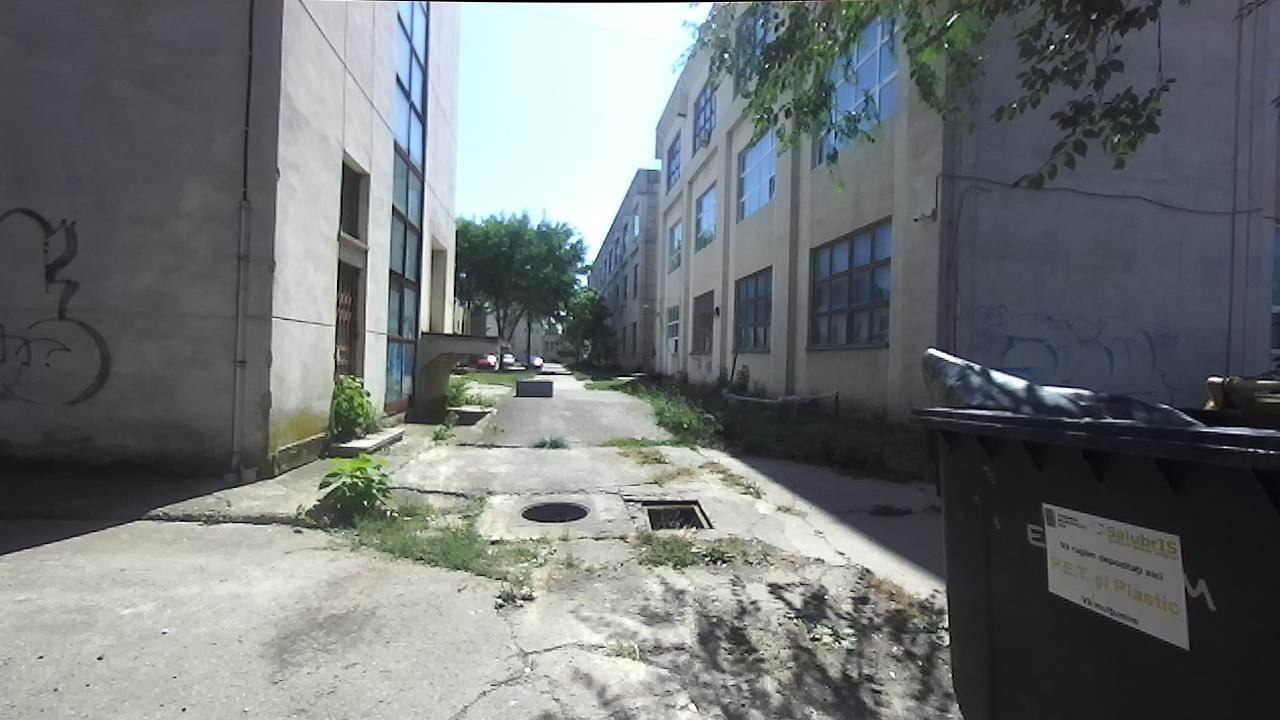drain: (635, 496, 718, 536), (514, 495, 593, 523)
